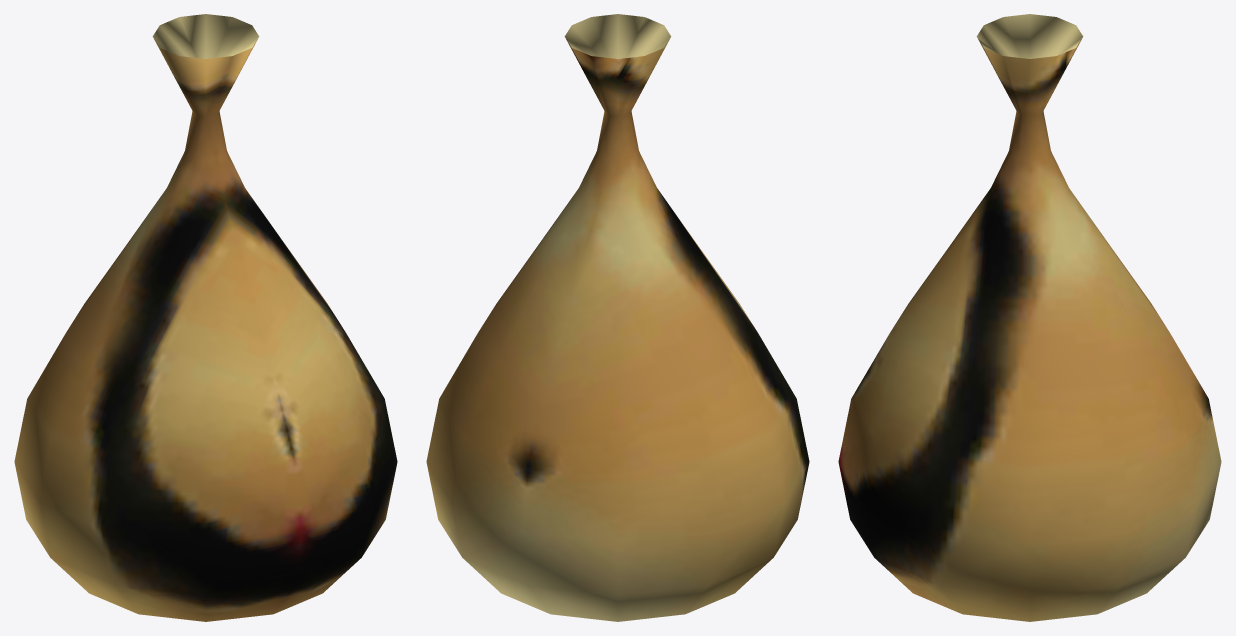
The model's file is 0204_ZhengDianPaiPai_Mesh_003.glb.
3 views of the same model, side by side, from view 1: azimuth 30°, elevation 25°; view 2: azimuth 150°, elevation 25°; view 3: azimuth 270°, elevation 25° (orthographic).
Bounding box in the file's own units: 1.39 × 2.2 × 1.39.
Materials: 1 (1 with a texture image).
